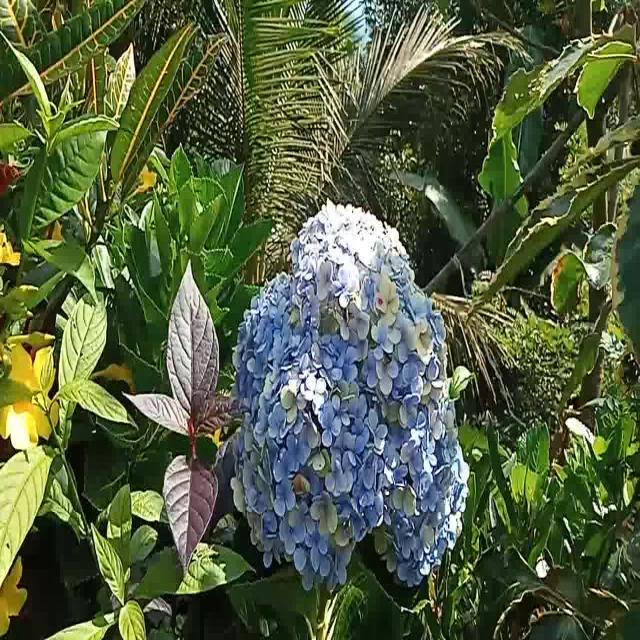Flower: (232, 198, 470, 598)
